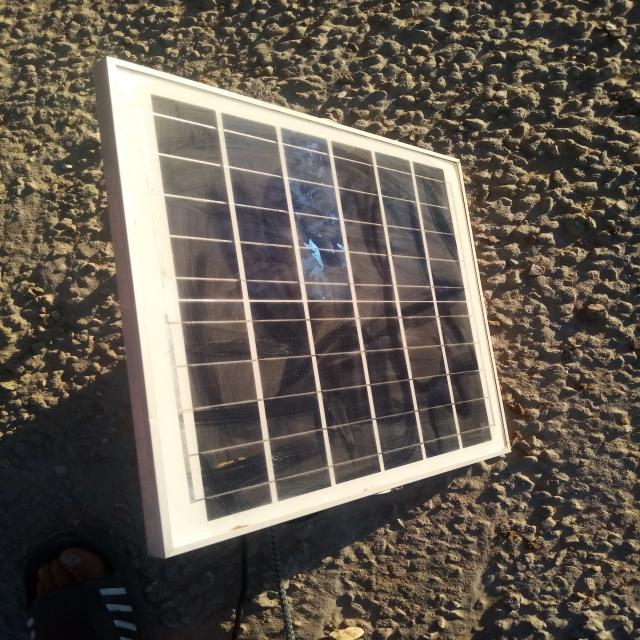faulty: (111, 62, 511, 555)
